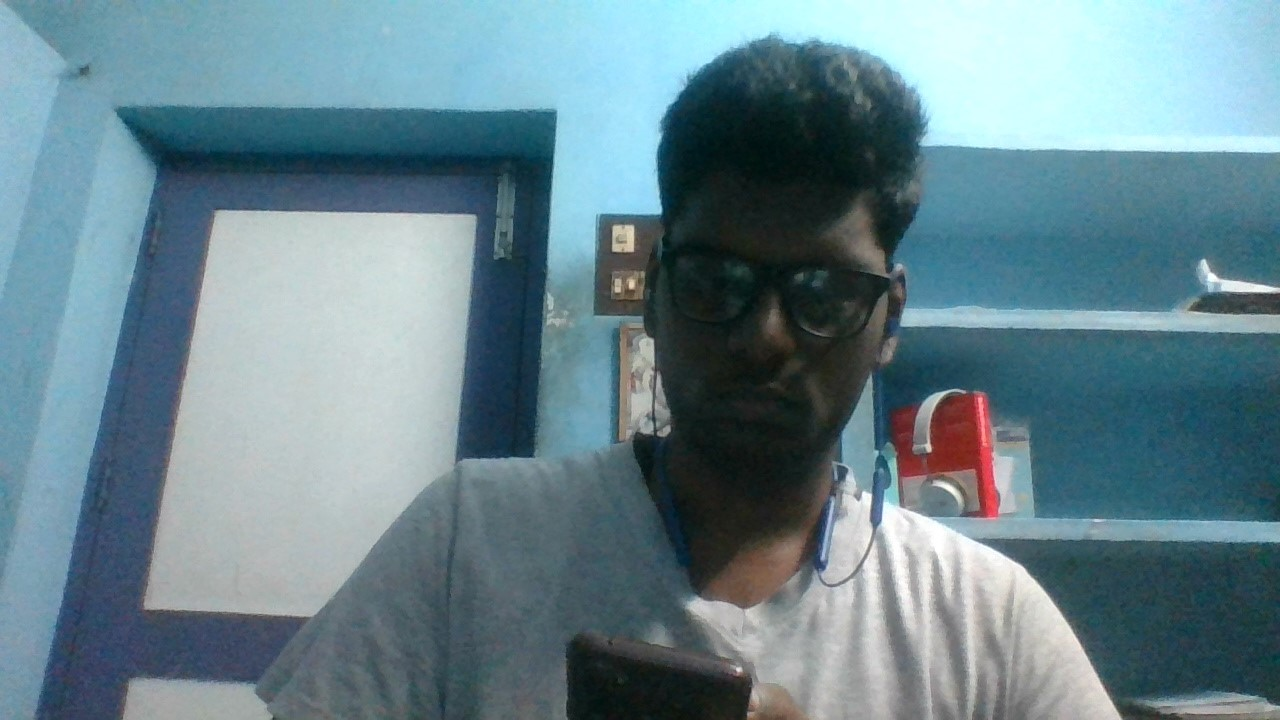mobile phone: (554, 622, 756, 717)
person: (245, 19, 1136, 720)
